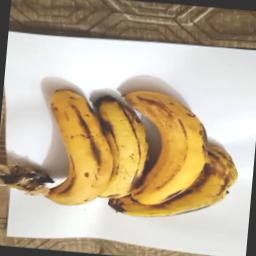Banana Unripe: (0, 82, 121, 211), (110, 86, 212, 215), (85, 90, 150, 204), (199, 136, 239, 216)
